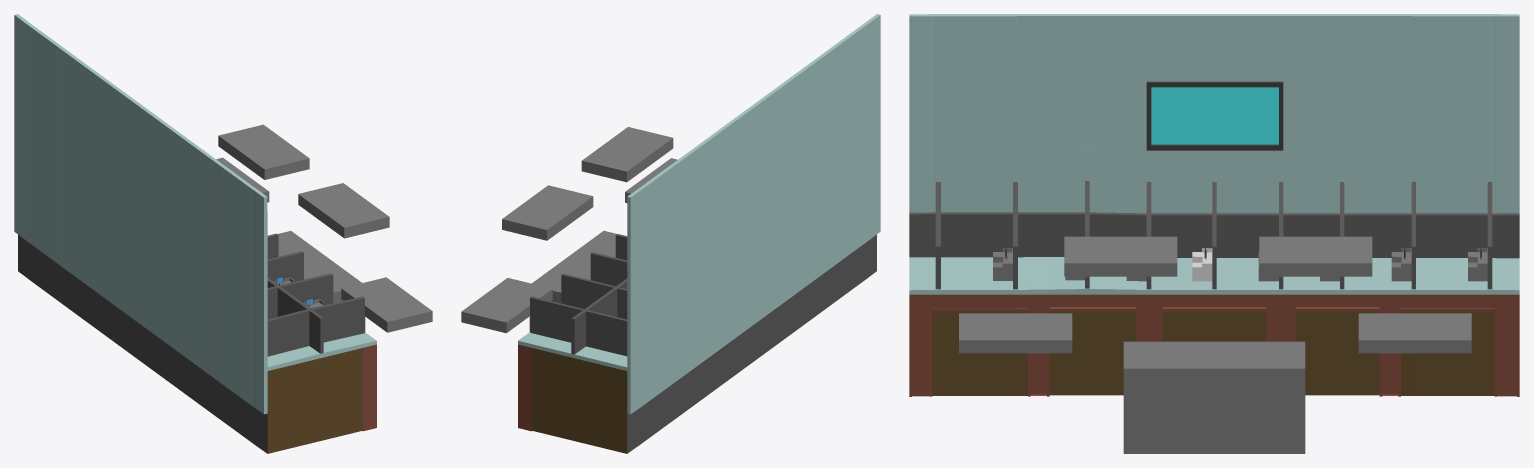
Rendered from escritorio_tubarao_1.fbx.
The picture shows the model from 3 angles, left to right: view 1: azimuth 30°, elevation 25°; view 2: azimuth 150°, elevation 25°; view 3: azimuth 270°, elevation 25°; orthographic projection. The views are drawn at different scales.
Visible parts, largest first — view 1: Cubo.001, Cube.013, Cube.012, Cube.011, Cube.007; view 2: Cubo.001, Cube.012, Cube.013, Cube.010, Cube.007; view 3: Cubo.001, Cube.007, Cube.010, Cube.011, Cube.012, Cube.013, Cube, Cube.003, Cube.009, Cube.008.
Boxes of the visible parts, left/top/right/bottom form: Cubo.001: left=14, top=14, right=376, bottom=453; Cube.013: left=218, top=124, right=309, bottom=179; Cube.012: left=298, top=183, right=389, bottom=238; Cube.011: left=341, top=277, right=432, bottom=332; Cube.007: left=278, top=231, right=365, bottom=331; Cubo.001: left=518, top=14, right=880, bottom=453; Cube.012: left=581, top=127, right=673, bottom=182; Cube.013: left=502, top=185, right=593, bottom=240; Cube.010: left=461, top=278, right=552, bottom=333; Cube.007: left=529, top=231, right=616, bottom=331; Cubo.001: left=909, top=14, right=1519, bottom=396; Cube.007: left=1123, top=341, right=1305, bottom=453; Cube.010: left=1358, top=313, right=1471, bottom=353; Cube.011: left=959, top=313, right=1072, bottom=353; Cube.012: left=1064, top=236, right=1177, bottom=276; Cube.013: left=1259, top=236, right=1372, bottom=276; Cube: left=1192, top=248, right=1212, bottom=281; Cube.003: left=1391, top=248, right=1411, bottom=281; Cube.009: left=1468, top=248, right=1487, bottom=281; Cube.008: left=993, top=248, right=1012, bottom=280.
Size of the model in its own units: 2060 by 2782 by 4703.
